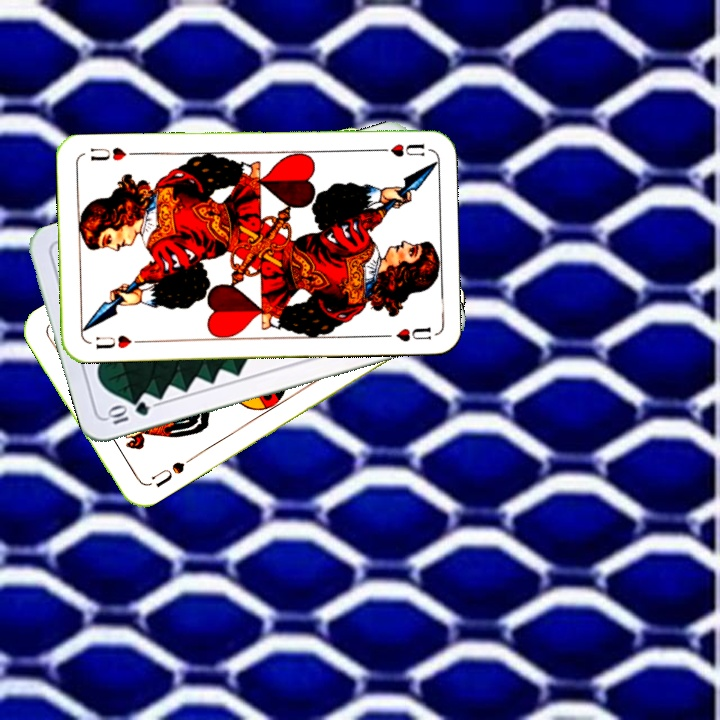G10: (103, 397, 152, 427)
HU: (371, 139, 427, 160), (92, 331, 134, 352)
SU: (147, 453, 195, 490)
